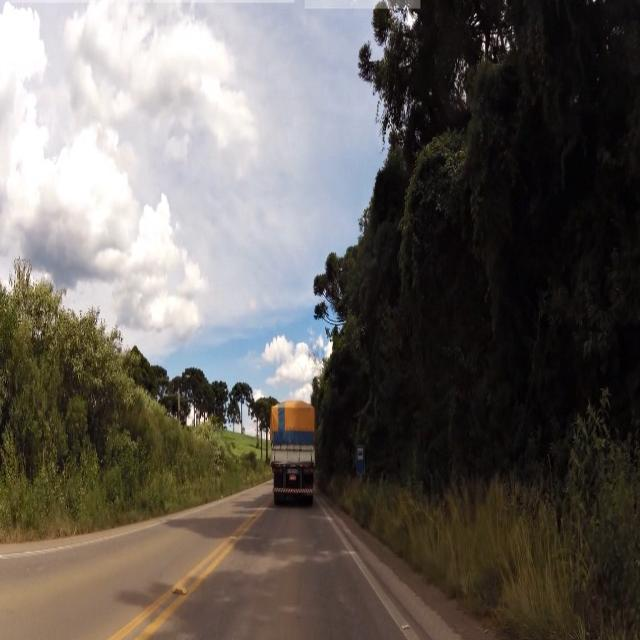S-14: (356, 440, 368, 482)
